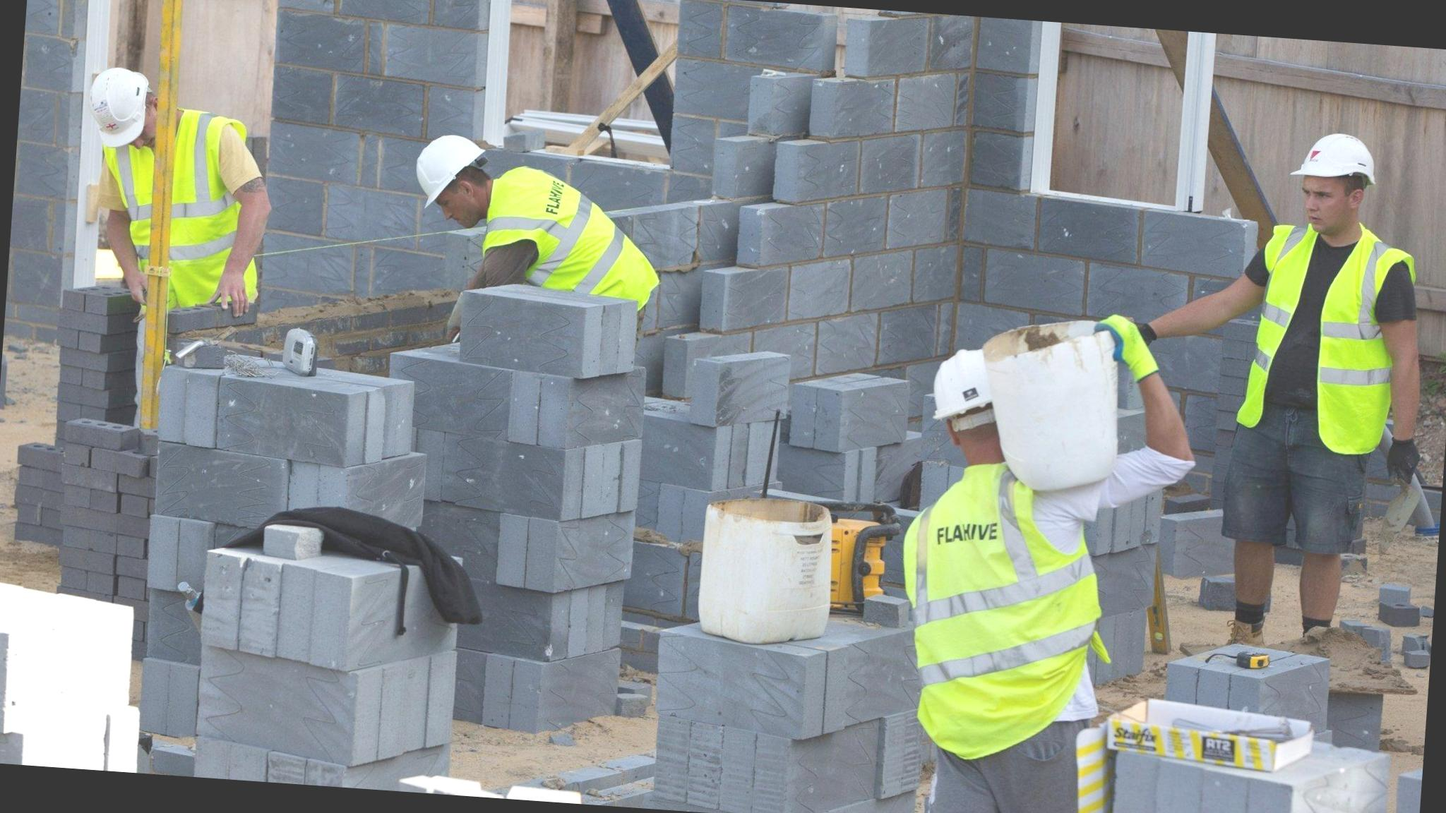helmet: (912, 322, 1017, 451), (1281, 109, 1382, 207), (72, 53, 161, 152), (404, 121, 486, 224)
person: (1183, 92, 1429, 661), (879, 325, 1154, 813), (47, 43, 290, 378), (396, 106, 675, 331)
